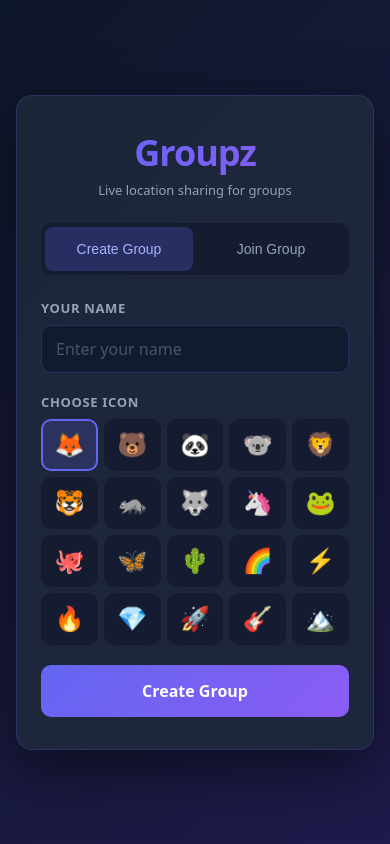
Test: Home — tabs and validation › submitting on the Join tab without a code shows an error message
Click the button "Join Group". click: (271, 249)
box: [197,227,345,271]
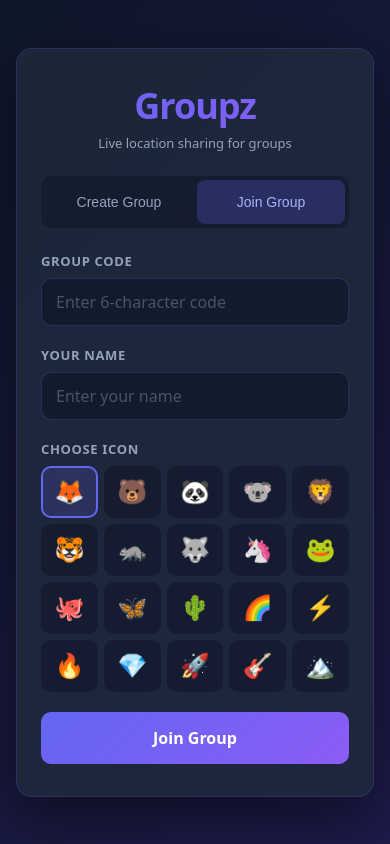
Type "Alice" into the field with placeholder "Enter your name". click: (195, 396)
box: [41,372,349,420]
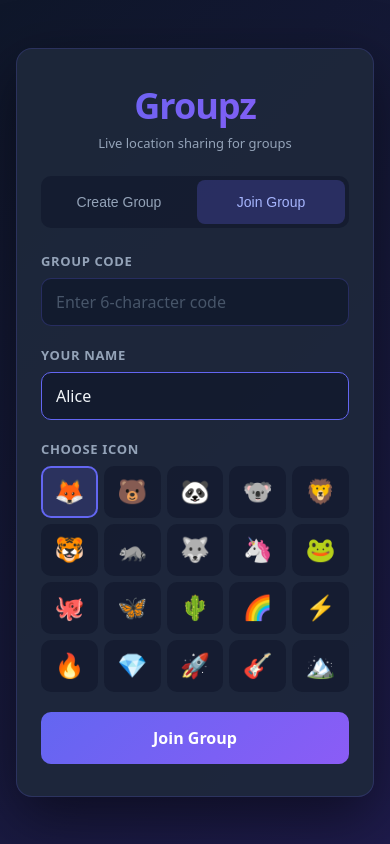
Click the submit button. click: (195, 738)
box: [41,712,349,764]
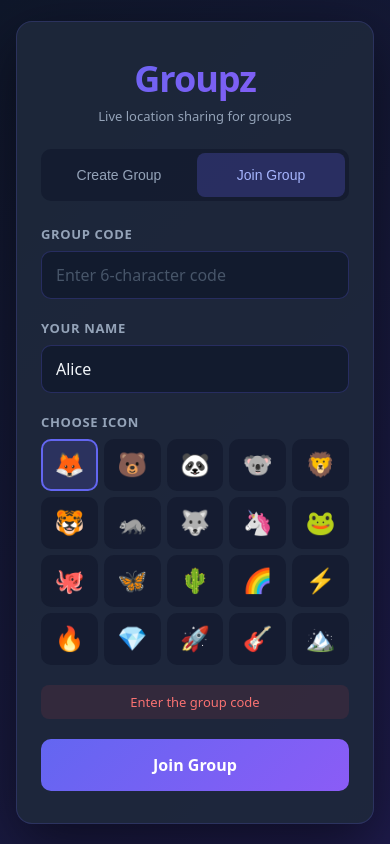
Check: the text "Enter the group code" is shown, box [41,684,349,718]
